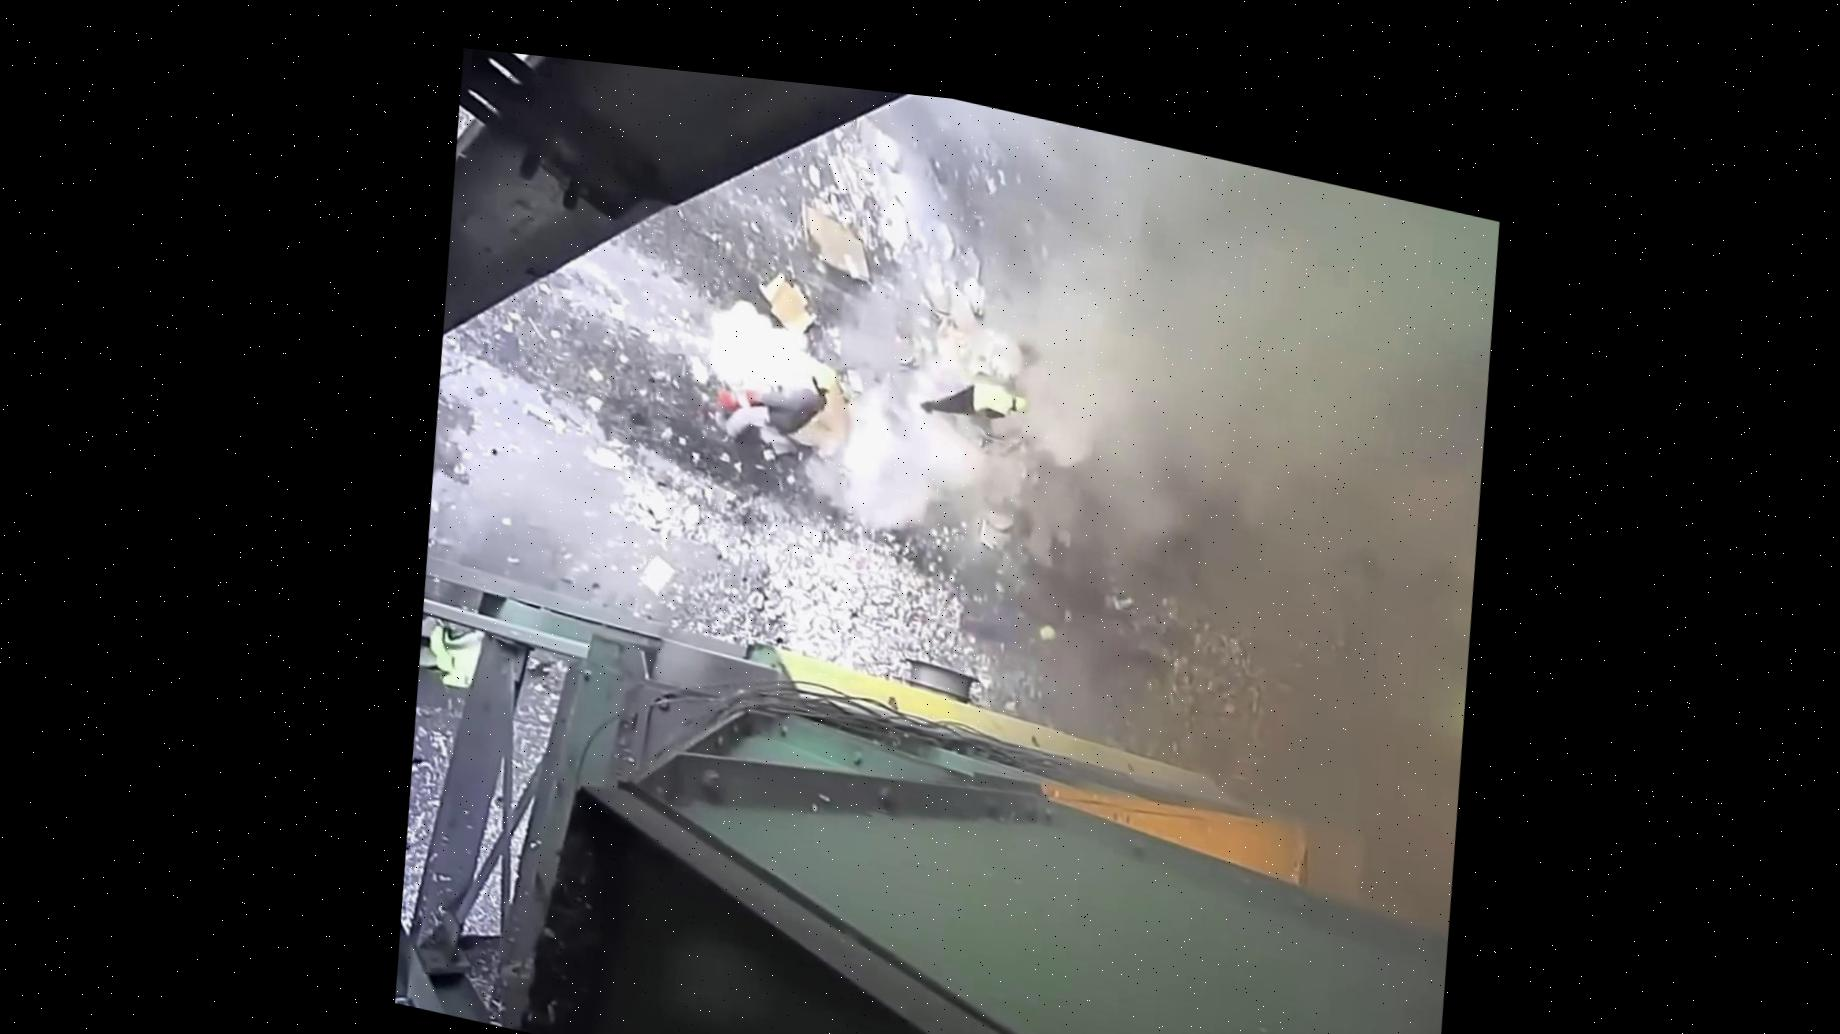smoke: (770, 193, 1355, 669)
